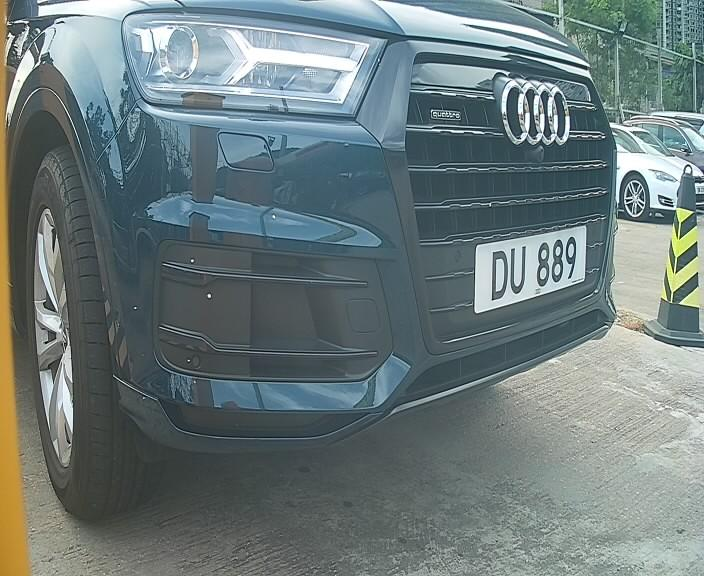Car: (16, 13, 667, 507)
License Plate: (466, 217, 598, 322)
